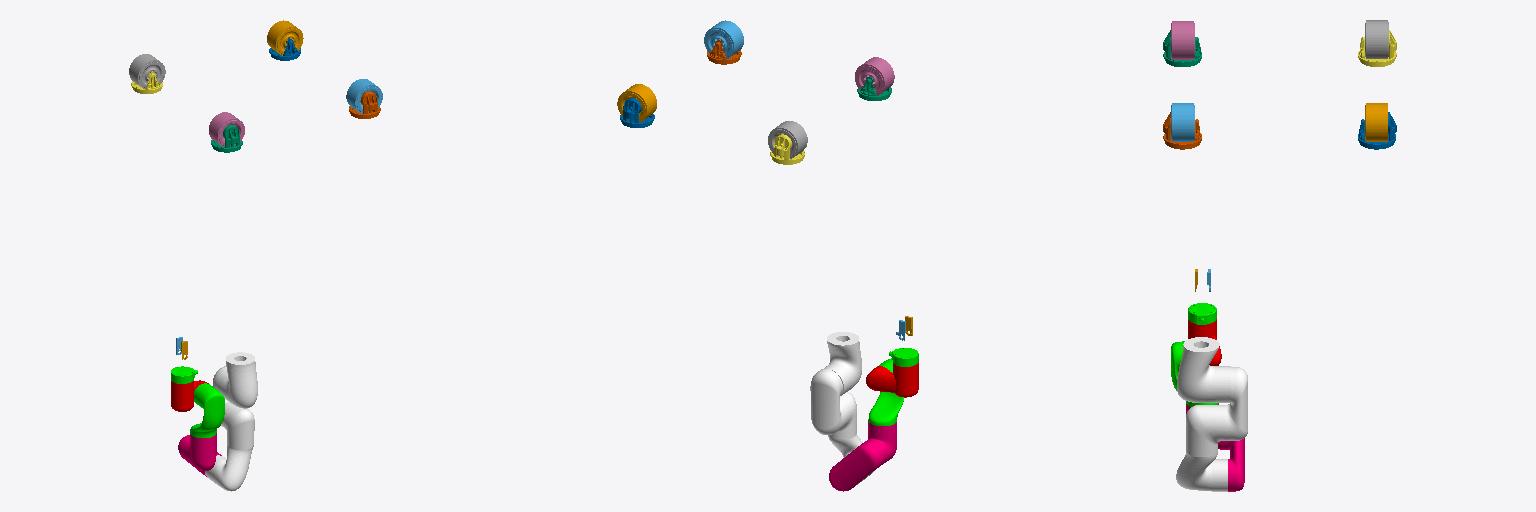
The robot description file, URDF, robot "demo_bot":
<?xml version="1.0" ?>
<robot name="demo_bot">


  <link name="Chassis_1">
    <visual name="Chassis_1_visual">
      <origin xyz="0 0 0" rpy="0 0 0"/>
      <geometry>
        <mesh filename="package://base_urdf/meshes/Chassis_1.stl"/>
      </geometry>
      <material name="Chassis_1-material">
        <color rgba="0 1 0 1"/>
      </material>
    </visual>
    <collision name="Chassis_1_collision">
      <origin xyz="0 0 0" rpy="0 0 0"/>
      <geometry>
        <mesh filename="package://base_urdf/meshes/Chassis_1.stl"/>
      </geometry>
    </collision>
    <inertial>
      <mass value="15.0"/>
      <origin xyz="0.125 0.198 0.4" rpy="0 0 0"/>
      <inertia ixx="0.5" ixy="0.0" ixz="0.0" iyy="0.5" iyz="0.0" izz="0.5"/>
    </inertial>
  </link>

  <link name="arm_shoulder241_1">
    <visual>
      <geometry><mesh filename="package://base_urdf/meshes/arm_shoulder241_1.stl"/></geometry>
      <material name="white"><color rgba="1 1 1 1"/></material>
    </visual>
    <collision>
      <geometry><mesh filename="package://base_urdf/meshes/arm_shoulder241_1.stl"/></geometry>
    </collision>
    <inertial>
      <origin xyz="0.00022 0.02951 -0.0124" rpy="0 0 0"/>
      <mass value="2.382"/>
      <inertia ixx="0.005856" ixy="-1.79e-05" ixz="3.55e-06" iyy="0.005031" iyz="0.00149" izz="0.003536"/>
    </inertial>
  </link>

  <link name="arm_elbow_4_1">
    <visual>
      <geometry><mesh filename="package://base_urdf/meshes/arm_elbow_4_1.stl"/></geometry>
      <material name="white"><color rgba="1 1 1 1"/></material>
    </visual>
    <collision>
      <geometry><mesh filename="package://base_urdf/meshes/arm_elbow_4_1.stl"/></geometry>
    </collision>
    <inertial>
      <origin xyz="0.03853 -0.0906 0.0" rpy="0 0 0"/>
      <mass value="2.269"/>
      <inertia ixx="0.01572" ixy="0.003611" ixz="2.3e-06" iyy="0.00443" iyz="2.5e-06" izz="0.01532"/>
    </inertial>
  </link>

  <link name="elbow2_p4_1">
    <visual>
      <geometry><mesh filename="package://base_urdf/meshes/elbow2_p4_1.stl"/></geometry>
      <material name="red_ish"><color rgba="1 0 0.5 1"/></material>
    </visual>
    <collision>
      <geometry><mesh filename="package://base_urdf/meshes/elbow2_p4_1.stl"/></geometry>
    </collision>
    <inertial>
      <origin xyz="0.07048 0.04217 -0.00017" rpy="0 0 0"/>
      <mass value="1.875"/>
      <inertia ixx="0.004641" ixy="0.001595" ixz="1.1e-06" iyy="0.004625" iyz="-3.6e-06" izz="0.007501"/>
    </inertial>
  </link>

  <link name="wrist_1_p4_1">
    <visual>
      <geometry><mesh filename="package://base_urdf/meshes/wrist_1_p4_1.stl"/></geometry>
      <material name="green"><color rgba="0 1 0 1"/></material>
    </visual>
    <collision>
      <geometry><mesh filename="package://base_urdf/meshes/wrist_1_p4_1.stl"/></geometry>
    </collision>
    <inertial>
      <origin xyz="-0.00022 0.02951 -0.0124" rpy="0 0 0"/>
      <mass value="1.313"/>
      <inertia ixx="0.003905" ixy="5.04e-06" ixz="-4.2e-07" iyy="0.003794" iyz="0.000101" izz="0.001155"/>
    </inertial>
  </link>

  <link name="wrist_2_p4_1">
    <visual>
      <geometry><mesh filename="package://base_urdf/meshes/wrist_2_p4_1.stl"/></geometry>
      <material name="red"><color rgba="1 0 0 1"/></material>
    </visual>
    <collision>
      <geometry><mesh filename="package://base_urdf/meshes/wrist_2_p4_1.stl"/></geometry>
    </collision>
    <inertial>
      <origin xyz="0.06341 0.01024 0.00019" rpy="0 0 0"/>
      <mass value="1.338"/>
      <inertia ixx="0.001363" ixy="0.000236" ixz="-1.6e-07" iyy="0.002623" iyz="3.6e-07" izz="0.002692"/>
    </inertial>
  </link>

  <link name="end_effector_p4_1">
    <visual>
      <geometry><mesh filename="package://base_urdf/meshes/end_effector_p4_1.stl"/></geometry>
      <material name="green"><color rgba="0 1 0 1"/></material>
    </visual>
    <collision>
      <geometry><mesh filename="package://base_urdf/meshes/end_effector_p4_1.stl"/></geometry>
    </collision>
    <inertial>
      <origin xyz="0.0 0.0 -0.00643" rpy="0 0 0"/>
      <mass value="0.17"/>
      <inertia ixx="0.0001" ixy="0.0" ixz="0.0" iyy="0.0001" iyz="0.0" izz="0.0001"/>
    </inertial>
  </link>

  <link name="gripper_v43_1">
    <visual>
      <geometry><mesh filename="package://base_urdf/meshes/gripper_v43_1.stl"/></geometry>
    </visual>
    <collision>
      <geometry><mesh filename="package://base_urdf/meshes/gripper_v43_1.stl"/></geometry>
    </collision>
    <inertial>
      <mass value="0.5"/>
      <origin xyz="-0.133 -0.007 0.33" rpy="0 0 0"/>
      <inertia ixx="4.73e-05" iyy="5.61e-05" izz="8.89e-06" ixy="0" ixz="0" iyz="0"/>
    </inertial>
  </link>

  <link name="Finger_left_2">
    <visual><geometry><mesh filename="package://base_urdf/meshes/Finger_left_2.stl"/></geometry></visual>
    <collision><geometry><mesh filename="package://base_urdf/meshes/Finger_left_2.stl"/></geometry></collision>
    <inertial><mass value="0.1"/><inertia ixx="0.0001" iyy="0.0001" izz="0.0001" ixy="0" ixz="0" iyz="0"/></inertial>
  </link>
  <link name="Finger_right_2">
    <visual><geometry><mesh filename="package://base_urdf/meshes/Finger_right_2.stl"/></geometry></visual>
    <collision><geometry><mesh filename="package://base_urdf/meshes/Finger_right_2.stl"/></geometry></collision>
    <inertial><mass value="0.1"/><inertia ixx="0.0001" iyy="0.0001" izz="0.0001" ixy="0" ixz="0" iyz="0"/></inertial>
  </link>

  <link name="Az_Front_Left_1">
    <visual><geometry><mesh filename="package://base_urdf/meshes/Az_Front_Left_1.stl"/></geometry></visual>
    <collision><geometry><mesh filename="package://base_urdf/meshes/Az_Front_Left_1.stl"/></geometry></collision>
    <inertial><mass value="0.5"/><inertia ixx="0.01" iyy="0.01" izz="0.01" ixy="0" ixz="0" iyz="0"/></inertial>
  </link>
  <link name="Az_Front_right_1">
    <visual><geometry><mesh filename="package://base_urdf/meshes/Az_Front_right_1.stl"/></geometry></visual>
    <collision><geometry><mesh filename="package://base_urdf/meshes/Az_Front_right_1.stl"/></geometry></collision>
    <inertial><mass value="0.5"/><inertia ixx="0.01" iyy="0.01" izz="0.01" ixy="0" ixz="0" iyz="0"/></inertial>
  </link>
  <link name="Az_Back_Right_1">
    <visual><geometry><mesh filename="package://base_urdf/meshes/Az_Back_Right_1.stl"/></geometry></visual>
    <collision><geometry><mesh filename="package://base_urdf/meshes/Az_Back_Right_1.stl"/></geometry></collision>
    <inertial><mass value="0.5"/><inertia ixx="0.01" iyy="0.01" izz="0.01" ixy="0" ixz="0" iyz="0"/></inertial>
  </link>
  <link name="Az_Back_left_1">
    <visual><geometry><mesh filename="package://base_urdf/meshes/Az_Back_left_1.stl"/></geometry></visual>
    <collision><geometry><mesh filename="package://base_urdf/meshes/Az_Back_left_1.stl"/></geometry></collision>
    <inertial><mass value="0.5"/><inertia ixx="0.01" iyy="0.01" izz="0.01" ixy="0" ixz="0" iyz="0"/></inertial>
  </link>

  <link name="Wheel_Front_Left_1">
    <visual><geometry><mesh filename="package://base_urdf/meshes/Wheel_Front_Left_1.stl"/></geometry></visual>
    <collision><geometry><mesh filename="package://base_urdf/meshes/Wheel_Front_Left_1.stl"/></geometry></collision>
    <inertial><mass value="1.0"/><inertia ixx="0.02" iyy="0.02" izz="0.02" ixy="0" ixz="0" iyz="0"/></inertial>
  </link>
  <link name="Wheel_Front_Right_1">
    <visual><geometry><mesh filename="package://base_urdf/meshes/Wheel_Front_Right_1.stl"/></geometry></visual>
    <collision><geometry><mesh filename="package://base_urdf/meshes/Wheel_Front_Right_1.stl"/></geometry></collision>
    <inertial><mass value="1.0"/><inertia ixx="0.02" iyy="0.02" izz="0.02" ixy="0" ixz="0" iyz="0"/></inertial>
  </link>
  <link name="Wheel_Back_Right_1">
    <visual><geometry><mesh filename="package://base_urdf/meshes/Wheel_Back_Right_1.stl"/></geometry></visual>
    <collision><geometry><mesh filename="package://base_urdf/meshes/Wheel_Back_Right_1.stl"/></geometry></collision>
    <inertial><mass value="1.0"/><inertia ixx="0.02" iyy="0.02" izz="0.02" ixy="0" ixz="0" iyz="0"/></inertial>
  </link>
  <link name="Wheel_Back_Left_1">
    <visual><geometry><mesh filename="package://base_urdf/meshes/Wheel_Back_Left_1.stl"/></geometry></visual>
    <collision><geometry><mesh filename="package://base_urdf/meshes/Wheel_Back_Left_1.stl"/></geometry></collision>
    <inertial><mass value="1.0"/><inertia ixx="0.02" iyy="0.02" izz="0.02" ixy="0" ixz="0" iyz="0"/></inertial>
  </link>

  <joint name="Revolute_9" type="revolute">
    <origin xyz="0 0 0" rpy="-3.14159261 0 3.13783310"/>
    <parent link="Chassis_1"/>
    <child link="arm_shoulder241_1"/>
    <axis xyz="0 0 -1"/>
    <limit effort="50.0" velocity="3.14" lower="-6.2831853" upper="6.2831853"/>
  </joint>

  <joint name="Revolute_10" type="revolute">
    <origin xyz="-0.00320691 0.077 0.11500004" rpy="1.5670368 -1.5707963 0"/>
    <parent link="arm_shoulder241_1"/>
    <child link="arm_elbow_4_1"/>
    <axis xyz="0 0 -1"/>
    <limit effort="50.0" velocity="3.14" lower="-2.059" upper="2.0944"/>
  </joint>

  <joint name="Revolute_11" type="revolute">
    <origin xyz="0.28467 -0.05322 0.00817" rpy="0 0 0"/>
    <parent link="arm_elbow_4_1"/>
    <child link="elbow2_p4_1"/>
    <axis xyz="0 0 -1"/>
    <limit effort="32.0" velocity="3.14" lower="-3.927" upper="0.19198"/>
  </joint>

  <joint name="Revolute_12" type="revolute">
    <origin xyz="-0.16933092 -0.08577945 0.06658" rpy="0 1.5707963 0"/>
    <parent link="elbow2_p4_1"/>
    <child link="wrist_1_p4_1"/>
    <axis xyz="0 0 -1"/>
    <limit effort="32.0" velocity="3.14" lower="-6.2831853" upper="6.2831853"/>
  </joint>

  <joint name="Revolute_13" type="revolute">
    <origin xyz="1.23e-06 1.02e-06 -0.13555" rpy="-1.5707963 0 1.5707963"/>
    <parent link="wrist_1_p4_1"/>
    <child link="wrist_2_p4_1"/>
    <axis xyz="0 0 -1"/>
    <limit effort="32.0" velocity="3.14" lower="-1.69297" upper="3.14159261"/>
  </joint>

  <joint name="Revolute_14" type="revolute">
    <origin xyz="-0.07700037 0.07099971 0" rpy="1.5707963 0 0"/>
    <parent link="wrist_2_p4_1"/>
    <child link="end_effector_p4_1"/>
    <axis xyz="0 0 -1"/>
    <limit effort="20.0" velocity="3.14" lower="-3.14159261" upper="3.14159261"/>
  </joint>

  <joint name="Fastened_1" type="fixed">
    <origin xyz="0 0 -0.028" rpy="0 0 1.5707963"/>
    <parent link="end_effector_p4_1"/>
    <child link="gripper_v43_1"/>
  </joint>

  <joint name="Slider_1" type="prismatic">
    <origin xyz="0.0161 0.0007 -0.06" rpy="-1.5707963 0 1.623"/>
    <parent link="gripper_v43_1"/>
    <child link="Finger_left_2"/>
    <axis xyz="0 0 -1"/>
    <limit effort="1" velocity="1" lower="-0.1" upper="0.1"/>
  </joint>

  <joint name="Slider_2" type="prismatic">
    <origin xyz="-0.0186 -0.001 -0.06" rpy="1.5707963 0 1.623"/>
    <parent link="gripper_v43_1"/>
    <child link="Finger_right_2"/>
    <axis xyz="0 0 -1"/>
    <limit effort="1" velocity="1" lower="-0.1" upper="0.1"/>
  </joint>

  <joint name="Revolute_5" type="revolute">
    <origin xyz="-0.078325 -0.04888 0.78425" rpy="-3.14159 0 3.14159"/>
    <parent link="Chassis_1"/>
    <child link="Az_Front_Left_1"/>
    <axis xyz="0 0 -1"/><limit effort="1" velocity="1" lower="-6.28" upper="6.28"/>
  </joint>
  <joint name="Revolute_6" type="revolute">
    <origin xyz="-0.078325 0.4585 0.7848" rpy="-3.14159 0 3.14159"/>
    <parent link="Chassis_1"/>
    <child link="Az_Front_right_1"/>
    <axis xyz="0 0 -1"/><limit effort="1" velocity="1" lower="-6.28" upper="6.28"/>
  </joint>
  <joint name="Revolute_7" type="revolute">
    <origin xyz="0.429 0.458 0.784" rpy="3.14159 0 0"/>
    <parent link="Chassis_1"/>
    <child link="Az_Back_Right_1"/>
    <axis xyz="0 0 -1"/><limit effort="1" velocity="1" lower="-6.28" upper="6.28"/>
  </joint>
  <joint name="Revolute_8" type="revolute">
    <origin xyz="0.429 -0.049 0.784" rpy="3.14159 0 0"/>
    <parent link="Chassis_1"/>
    <child link="Az_Back_left_1"/>
    <axis xyz="0 0 -1"/><limit effort="1" velocity="1" lower="-6.28" upper="6.28"/>
  </joint>

  <joint name="Revolute_1" type="revolute">
    <parent link="Az_Front_Left_1"/><child link="Wheel_Front_Left_1"/>
    <origin xyz="0 0.0024 -0.057" rpy="-1.5707 0 0"/><axis xyz="0 0 -1"/><limit effort="1" velocity="1" lower="-6.28" upper="6.28"/>
  </joint>
  <joint name="Revolute_2" type="revolute">
    <parent link="Az_Front_right_1"/><child link="Wheel_Front_Right_1"/>
    <origin xyz="0 -0.0024 -0.057" rpy="1.5707 0 0"/><axis xyz="0 0 -1"/><limit effort="1" velocity="1" lower="-6.28" upper="6.28"/>
  </joint>
  <joint name="Revolute_3" type="revolute">
    <parent link="Az_Back_Right_1"/><child link="Wheel_Back_Right_1"/>
    <origin xyz="0 0.0024 -0.057" rpy="-1.5707 0 0"/><axis xyz="0 0 -1"/><limit effort="1" velocity="1" lower="-6.28" upper="6.28"/>
  </joint>
  <joint name="Revolute_4" type="revolute">
    <parent link="Az_Back_left_1"/><child link="Wheel_Back_Left_1"/>
    <origin xyz="0 -0.0024 -0.057" rpy="1.5707 0 0"/><axis xyz="0 0 -1"/><limit effort="1" velocity="1" lower="-6.28" upper="6.28"/>
  </joint>

</robot>

--- What the picture shows (computed from the rendered views, not written in the file) ---
The picture shows the robot from 3 angles, left to right: view 1: azimuth 30°, elevation 25°; view 2: azimuth 150°, elevation 25°; view 3: azimuth 270°, elevation 25°; orthographic projection.
Model demo_bot with 18 links and 17 joints (14 revolute, 2 prismatic, 1 fixed), rooted at Chassis_1, posed every joint at zero.
Links seen in each view (by area): view 1: arm_elbow_4_1, arm_shoulder241_1, wrist_1_p4_1, elbow2_p4_1, Wheel_Front_Right_1, Wheel_Back_Right_1, wrist_2_p4_1, Wheel_Front_Left_1, Wheel_Back_Left_1; view 2: arm_elbow_4_1, elbow2_p4_1, arm_shoulder241_1, wrist_2_p4_1, wrist_1_p4_1, Wheel_Back_Left_1, Wheel_Front_Left_1, Wheel_Back_Right_1, Wheel_Front_Right_1, Az_Front_right_1, Az_Back_Right_1; view 3: arm_elbow_4_1, arm_shoulder241_1, elbow2_p4_1, Wheel_Front_Left_1, Wheel_Back_Left_1, Wheel_Front_Right_1, Wheel_Back_Right_1, wrist_2_p4_1, end_effector_p4_1, Az_Back_Right_1, Az_Front_right_1.
Link boxes in pixels (<box>): arm_elbow_4_1: <box>205,366,254,491</box>; arm_shoulder241_1: <box>215,352,257,408</box>; wrist_1_p4_1: <box>190,383,224,437</box>; elbow2_p4_1: <box>178,433,221,476</box>; Wheel_Front_Right_1: <box>129,54,165,88</box>; Wheel_Back_Right_1: <box>267,20,303,55</box>; wrist_2_p4_1: <box>171,380,208,411</box>; Wheel_Front_Left_1: <box>209,112,244,146</box>; Wheel_Back_Left_1: <box>346,79,382,113</box>; arm_elbow_4_1: <box>810,369,873,484</box>; elbow2_p4_1: <box>829,421,896,491</box>; arm_shoulder241_1: <box>824,332,861,395</box>; wrist_2_p4_1: <box>866,362,918,397</box>; wrist_1_p4_1: <box>868,358,903,425</box>; Wheel_Back_Left_1: <box>704,20,743,58</box>; Wheel_Front_Left_1: <box>855,57,894,95</box>; Wheel_Back_Right_1: <box>617,84,656,122</box>; Wheel_Front_Right_1: <box>768,121,807,158</box>; Az_Front_right_1: <box>770,134,804,164</box>; Az_Back_Right_1: <box>620,98,654,127</box>; arm_elbow_4_1: <box>1176,367,1247,491</box>; arm_shoulder241_1: <box>1177,337,1230,402</box>; elbow2_p4_1: <box>1186,404,1244,491</box>; Wheel_Front_Left_1: <box>1171,21,1194,59</box>; Wheel_Back_Left_1: <box>1171,103,1194,141</box>; Wheel_Front_Right_1: <box>1365,20,1388,58</box>; Wheel_Back_Right_1: <box>1365,103,1387,141</box>; wrist_2_p4_1: <box>1188,319,1221,365</box>; end_effector_p4_1: <box>1188,303,1216,324</box>; Az_Back_Right_1: <box>1358,112,1396,149</box>; Az_Front_right_1: <box>1358,30,1396,66</box>.
Bounding box of the posed robot: 0.7298 × 0.61 × 1.33 m (x, y, z).
Meshes: 18 distinct files referenced, 16 mesh visuals loaded (16 binary STL); not drawn: 2 (reference not matched to a file when rendering).
